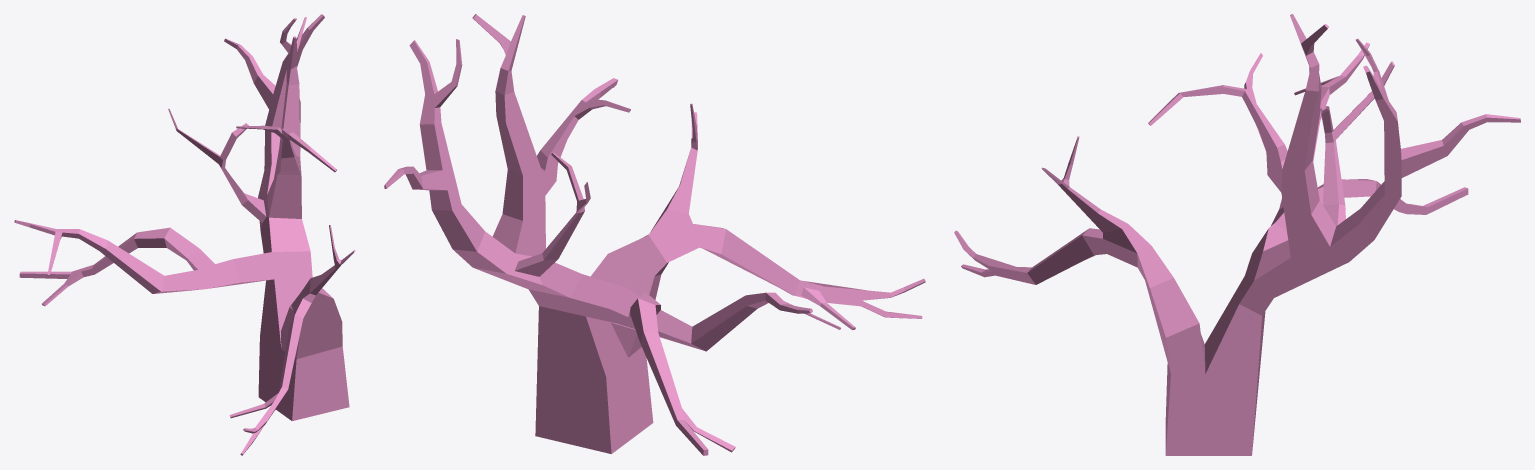
The model's file is oaktreeB.glb.
3 renders of one model, left to right at view 1: azimuth 30°, elevation 25°; view 2: azimuth 150°, elevation 25°; view 3: azimuth 270°, elevation 25°, orthographic. The views are drawn at different scales.
Visible parts, largest first — view 1: Cube; view 2: Cube; view 3: Cube.
Part boxes in pixels (x1,y1,x2,y2): Cube: [14, 14, 355, 455]; Cube: [384, 14, 925, 455]; Cube: [954, 14, 1520, 455].
Bounding box in the file's own units: 3.84 × 4.03 × 4.67.
